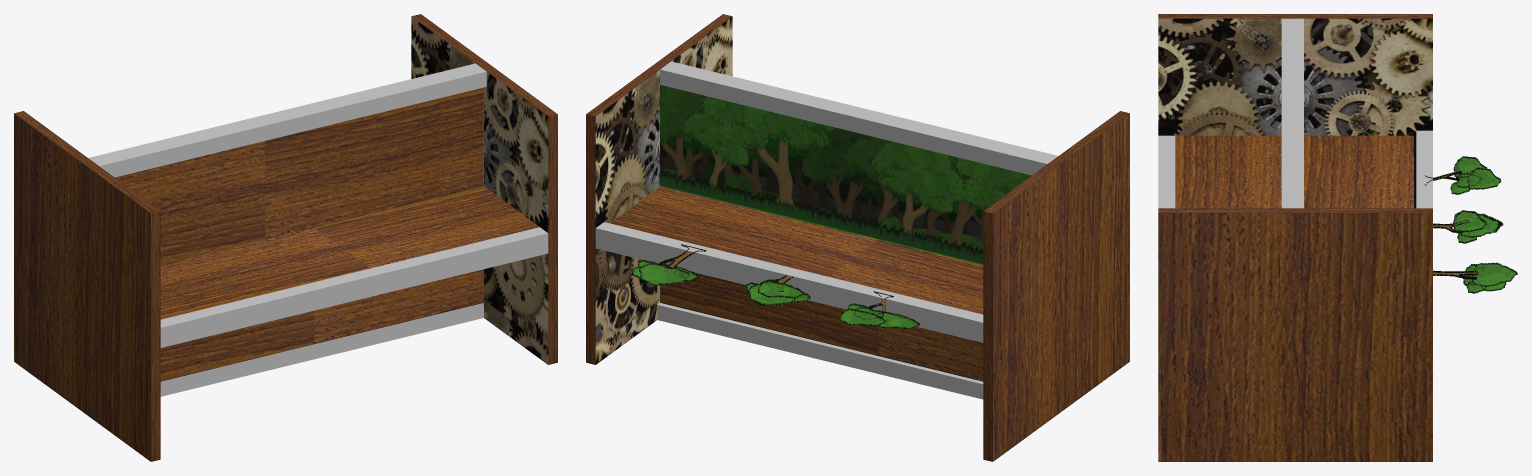
The picture shows the model from 3 angles, left to right: view 1: azimuth 30°, elevation 25°; view 2: azimuth 150°, elevation 25°; view 3: azimuth 270°, elevation 25°; orthographic projection.
Parts seen in each view (by area): view 1: Box017, Box009, Box013, Box007, BackLane004, Box014, BackLane003, BackLane005; view 2: Box017, Box009, Box007, Box015, Box014, BackLane003, BackLane02, BackLane005, Tree_B_03, Tree_C_05, Tree_A_05; view 3: Box007, Box017, Box015, Box013, BackLane003, BackLane02, BackLane004, Tree_B_03, Tree_C_05, Tree_A_05, Tree_A_03, Tree_C_02.
Part boxes in pixels (bbox=[...]): Box017: bbox=[14, 111, 160, 461]; Box009: bbox=[115, 87, 483, 264]; Box013: bbox=[160, 186, 539, 319]; Box007: bbox=[411, 14, 557, 364]; BackLane004: bbox=[160, 227, 548, 347]; Box014: bbox=[160, 269, 483, 381]; BackLane003: bbox=[88, 63, 486, 177]; BackLane005: bbox=[160, 303, 483, 396]; Box017: bbox=[983, 111, 1129, 461]; Box009: bbox=[660, 85, 1031, 264]; Box007: bbox=[586, 14, 732, 364]; Box015: bbox=[610, 186, 983, 314]; Box014: bbox=[660, 272, 983, 381]; BackLane003: bbox=[660, 61, 1057, 175]; BackLane02: bbox=[595, 222, 983, 342]; BackLane005: bbox=[657, 303, 983, 399]; Tree_B_03: bbox=[639, 263, 689, 285]; Tree_C_05: bbox=[840, 308, 886, 326]; Tree_A_05: bbox=[758, 280, 804, 298]; Box007: bbox=[1158, 208, 1432, 461]; Box017: bbox=[1158, 14, 1432, 135]; Box015: bbox=[1304, 135, 1416, 208]; Box013: bbox=[1175, 135, 1281, 208]; BackLane003: bbox=[1281, 18, 1303, 208]; BackLane02: bbox=[1416, 130, 1432, 208]; BackLane004: bbox=[1158, 135, 1175, 208]; Tree_B_03: bbox=[1471, 262, 1517, 286]; Tree_C_05: bbox=[1467, 167, 1501, 189]; Tree_A_05: bbox=[1453, 210, 1486, 232]; Tree_A_03: bbox=[1458, 213, 1503, 237]; Tree_C_02: bbox=[1453, 156, 1487, 177].
Size of the model in its own units: 42 by 24.5 by 32.04.
